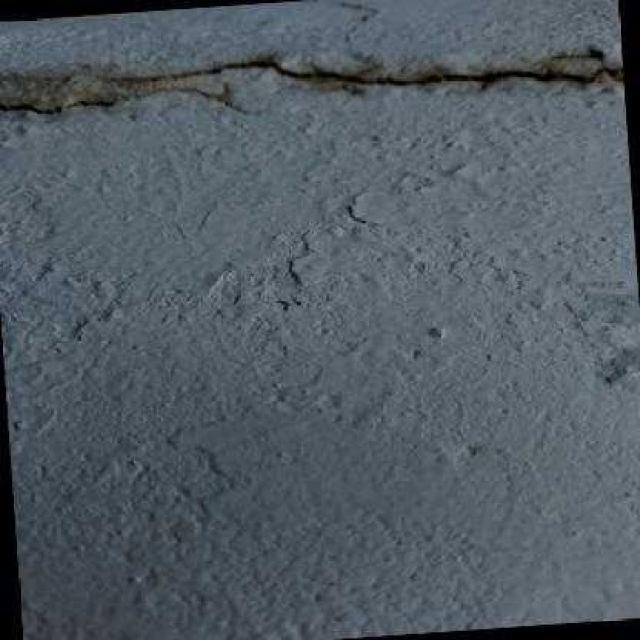D00: (112, 61, 624, 86), (0, 88, 260, 115)
